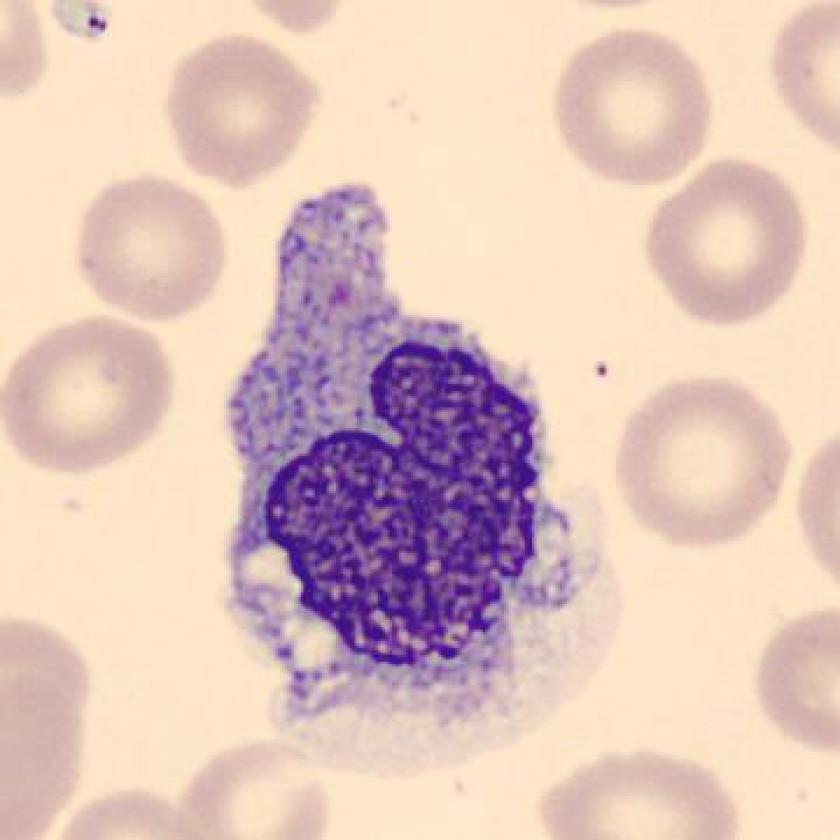monocyte: (209, 166, 640, 793)
